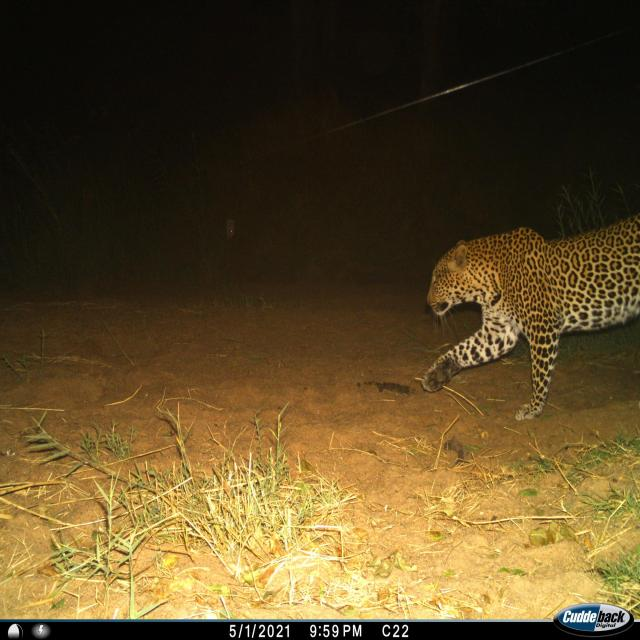Leopard: (418, 203, 634, 436)
